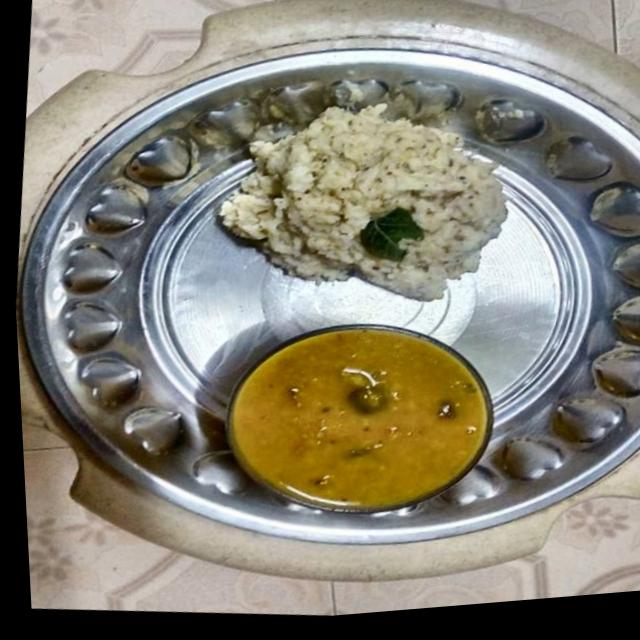PONGAL: (220, 102, 506, 300)
SAMBAR: (232, 329, 491, 507)
